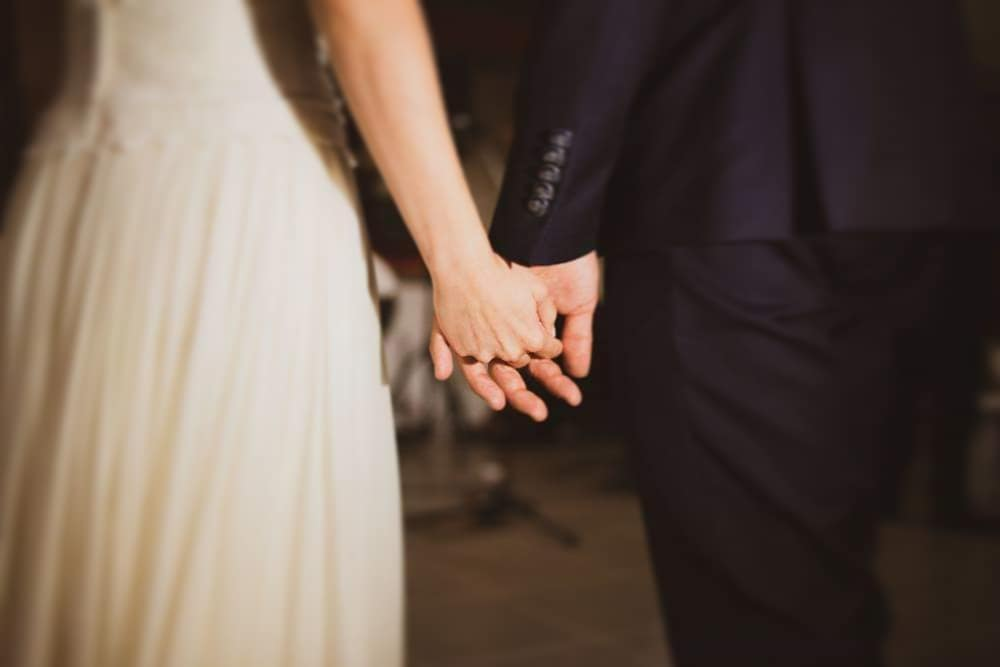hand: (440, 200, 580, 404)
